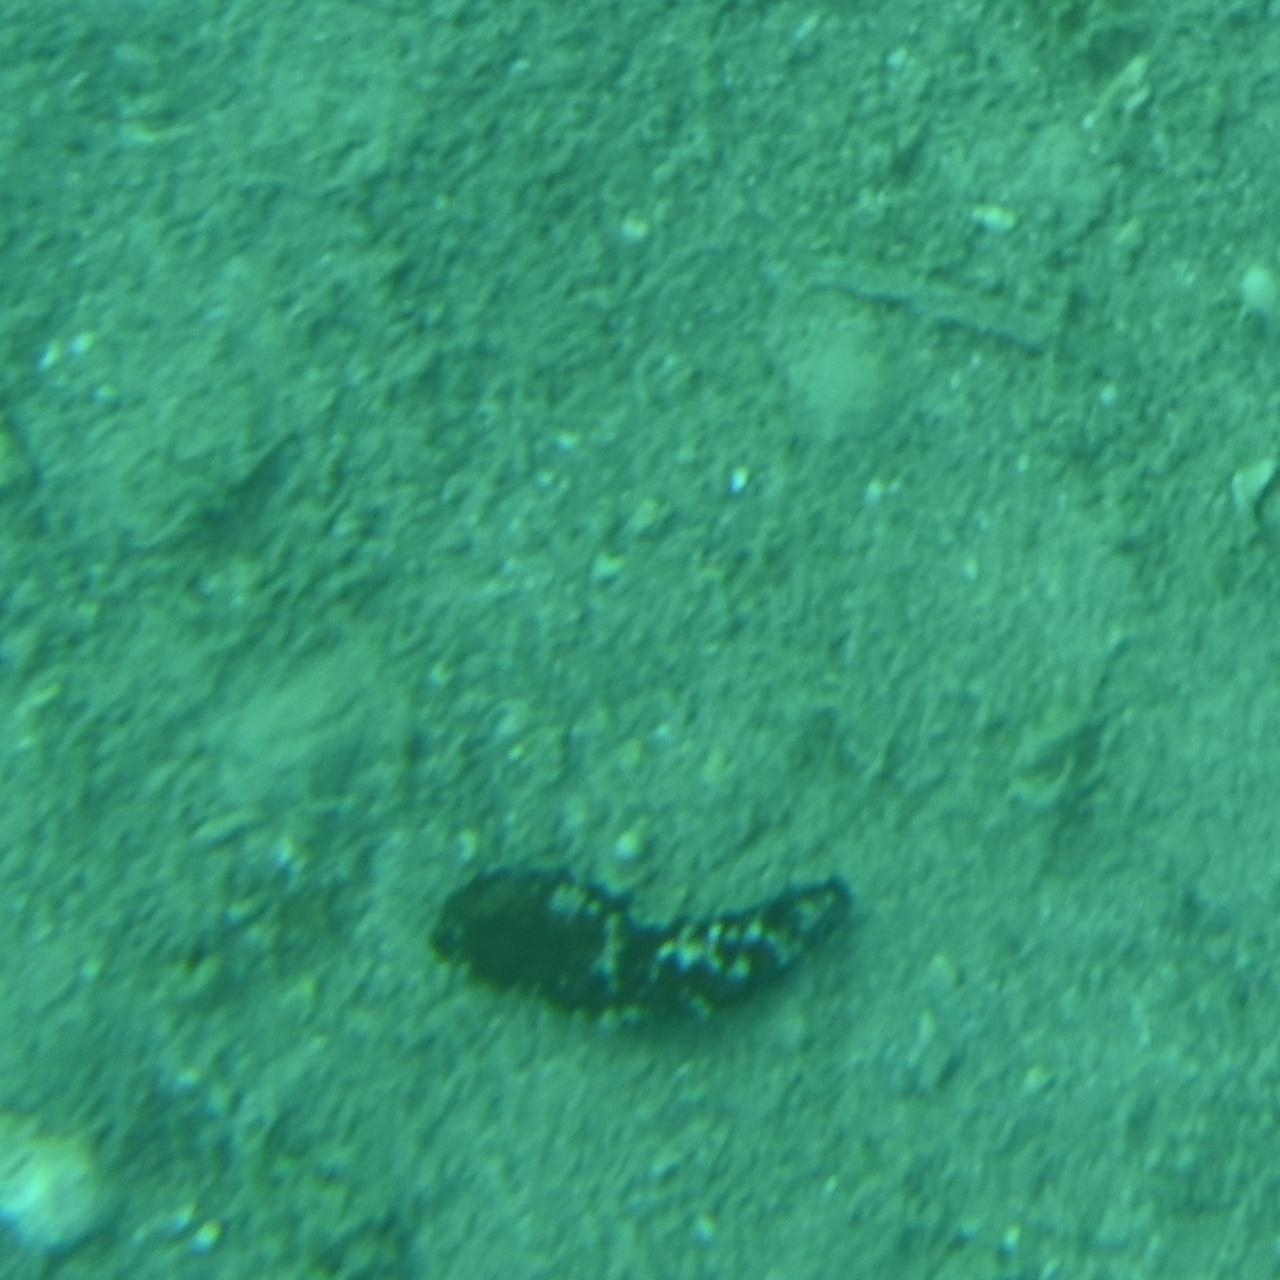Holothuria tubulosa: (423, 855, 857, 1032)
